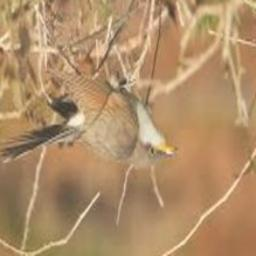Cuckoo: (1, 74, 180, 167)
